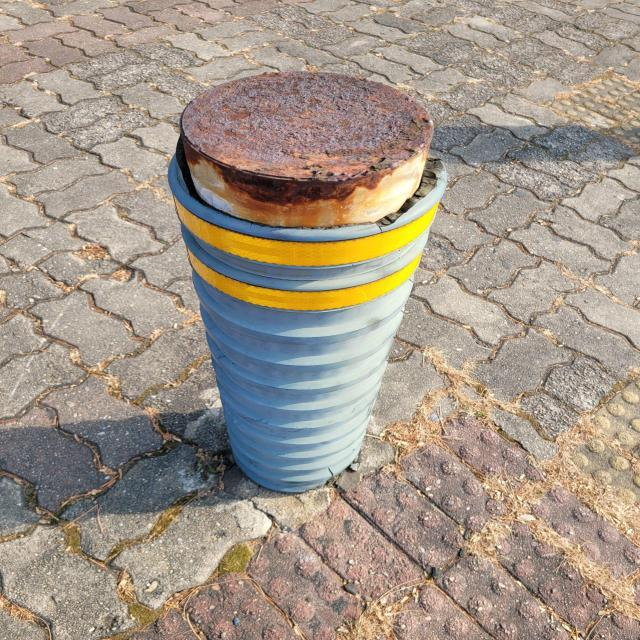pole: (168, 67, 440, 491)
